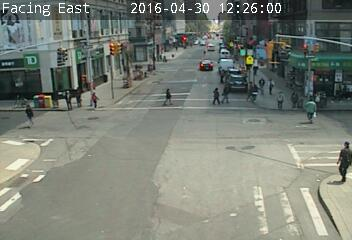neg: (116, 53, 141, 87), (28, 173, 50, 203), (152, 152, 174, 181), (240, 144, 259, 170), (74, 166, 93, 191), (225, 196, 243, 220), (122, 115, 140, 138), (170, 33, 188, 56), (275, 168, 292, 191), (211, 147, 227, 169), (270, 34, 286, 56), (310, 63, 319, 76)
pos: (317, 137, 351, 182), (19, 99, 42, 129), (158, 83, 179, 110), (301, 93, 321, 119), (59, 86, 78, 111), (203, 83, 221, 107), (73, 86, 89, 107), (289, 87, 305, 107), (274, 88, 289, 109), (87, 89, 102, 110), (220, 84, 235, 104), (263, 73, 278, 93), (255, 74, 268, 92)
